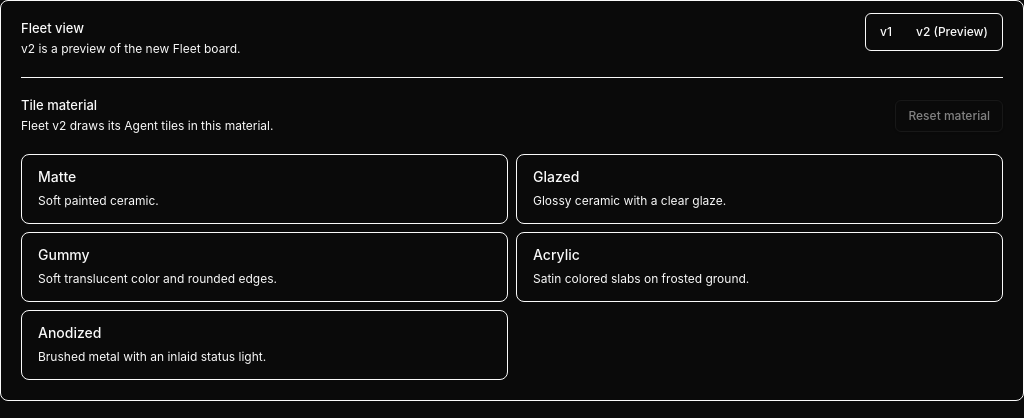
Fleet presentation choices › names each view, material and the reset by id
expect the button "Matte Soft painted ceramic." is enabled: met, box top-left (21, 154), bottom-right (508, 224)
Step 1. Click the button "Anodized Brushed metal with an inlaid status light." → (70, 332), box top-left (21, 310), bottom-right (508, 380)
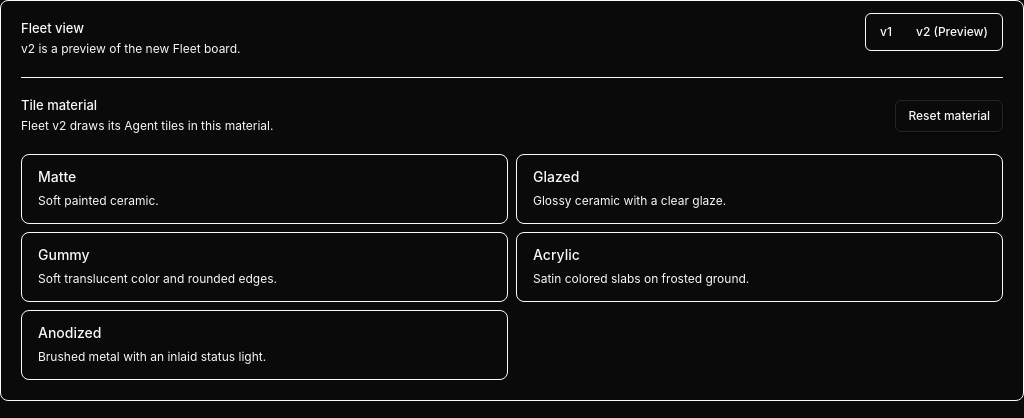
expect the button "Reset material" is enabled: met
Step 2. Click the button "Reset material" → (949, 116), box top-left (896, 100), bottom-right (1003, 132)
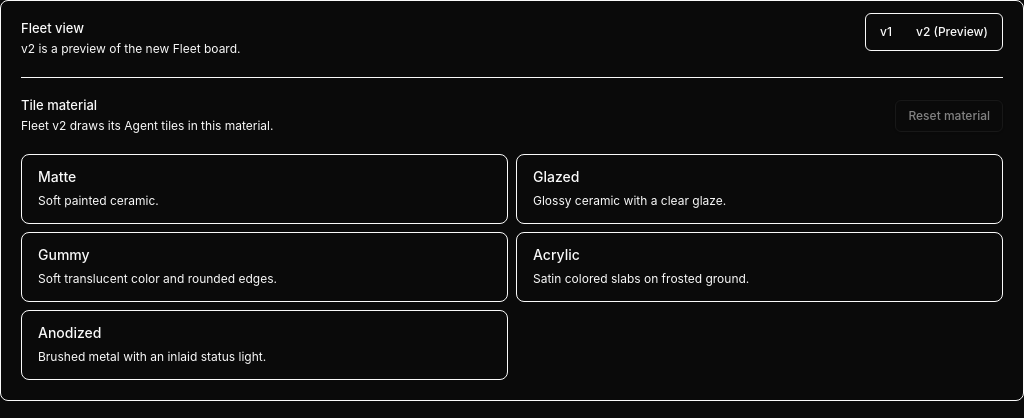
expect the button "Reset material" is disabled: met, box top-left (896, 100), bottom-right (1003, 132)
